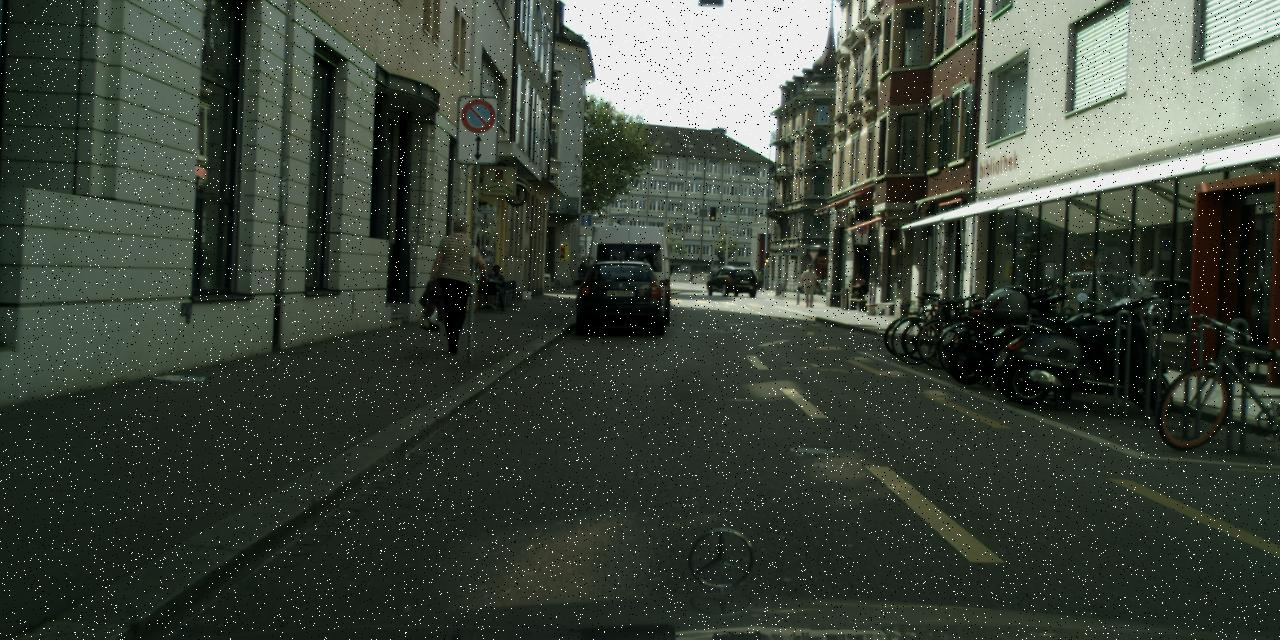ped: (429, 215, 484, 352), (800, 263, 818, 307), (849, 276, 869, 300), (756, 270, 763, 290)
